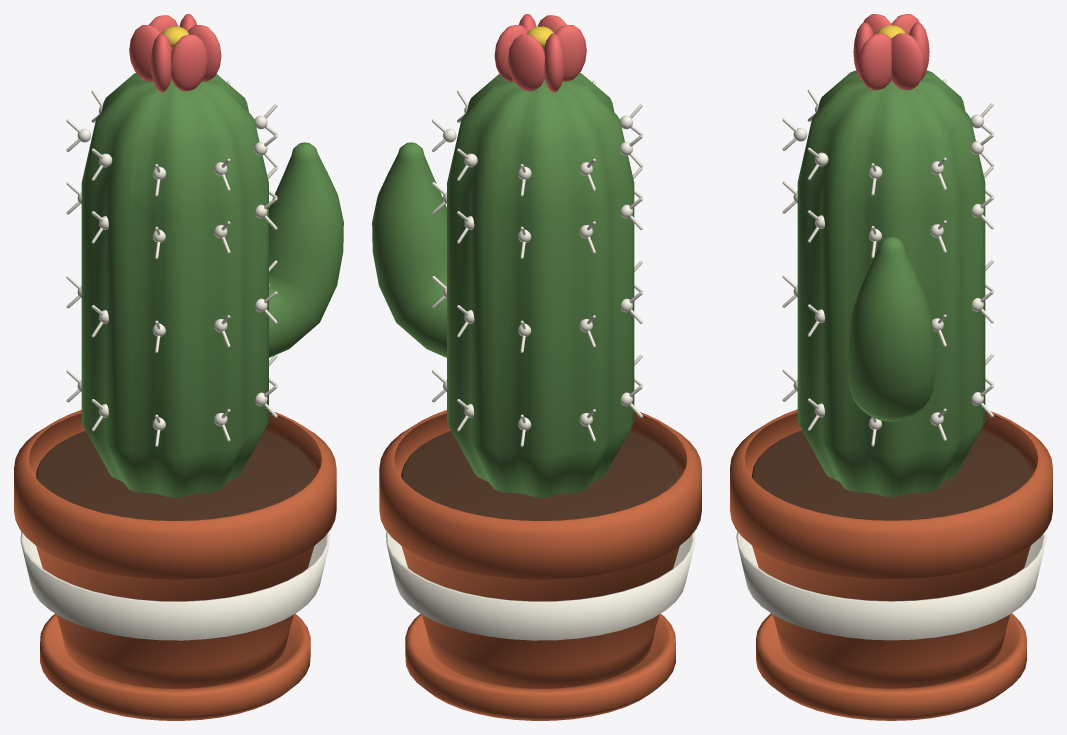
File: pot_cactus.glb
3 renders of one model, left to right at view 1: azimuth 30°, elevation 25°; view 2: azimuth 150°, elevation 25°; view 3: azimuth 270°, elevation 25°, orthographic.
Visible parts, largest first — view 1: Ribbed_cactus_trunk, Terracotta_open_pot, Cream_botanical_band, Removable_soil, Attached_side_arm, Separate_saucer, Cactus_crown_petal, Cactus_crown_petal.004, Cactus_crown_petal.005, Cactus_crown_petal.001; view 2: Ribbed_cactus_trunk, Terracotta_open_pot, Cream_botanical_band, Removable_soil, Attached_side_arm, Separate_saucer, Cactus_crown_petal.003, Cactus_crown_petal.005, Cactus_crown_petal.004, Cactus_crown_petal.002; view 3: Ribbed_cactus_trunk, Terracotta_open_pot, Attached_side_arm, Cream_botanical_band, Removable_soil, Separate_saucer, Cactus_crown_petal.001, Cactus_crown_petal.002.
Boxes of the visible parts, bbox=[...] form: Ribbed_cactus_trunk: bbox=[81, 73, 268, 497]; Terracotta_open_pot: bbox=[14, 410, 336, 688]; Cream_botanical_band: bbox=[20, 531, 329, 640]; Removable_soil: bbox=[36, 430, 314, 520]; Attached_side_arm: bbox=[269, 142, 343, 357]; Separate_saucer: bbox=[40, 613, 310, 720]; Cactus_crown_petal: bbox=[171, 34, 208, 91]; Cactus_crown_petal.004: bbox=[129, 25, 160, 81]; Cactus_crown_petal.005: bbox=[150, 33, 171, 92]; Cactus_crown_petal.001: bbox=[187, 25, 221, 81]; Ribbed_cactus_trunk: bbox=[447, 73, 634, 497]; Terracotta_open_pot: bbox=[379, 410, 701, 688]; Cream_botanical_band: bbox=[386, 531, 695, 640]; Removable_soil: bbox=[401, 430, 679, 520]; Attached_side_arm: bbox=[372, 142, 446, 357]; Separate_saucer: bbox=[405, 613, 675, 720]; Cactus_crown_petal.003: bbox=[507, 34, 544, 91]; Cactus_crown_petal.005: bbox=[555, 25, 586, 81]; Cactus_crown_petal.004: bbox=[544, 33, 565, 92]; Cactus_crown_petal.002: bbox=[494, 25, 528, 81]; Ribbed_cactus_trunk: bbox=[797, 70, 985, 497]; Terracotta_open_pot: bbox=[730, 409, 1052, 688]; Attached_side_arm: bbox=[847, 236, 935, 421]; Cream_botanical_band: bbox=[736, 531, 1046, 640]; Removable_soil: bbox=[751, 430, 1031, 520]; Separate_saucer: bbox=[756, 613, 1026, 720]; Cactus_crown_petal.001: bbox=[858, 33, 891, 90]; Cactus_crown_petal.002: bbox=[891, 33, 924, 90].
Bounding box in the file's own units: 0.3038 × 0.616 × 0.28.
